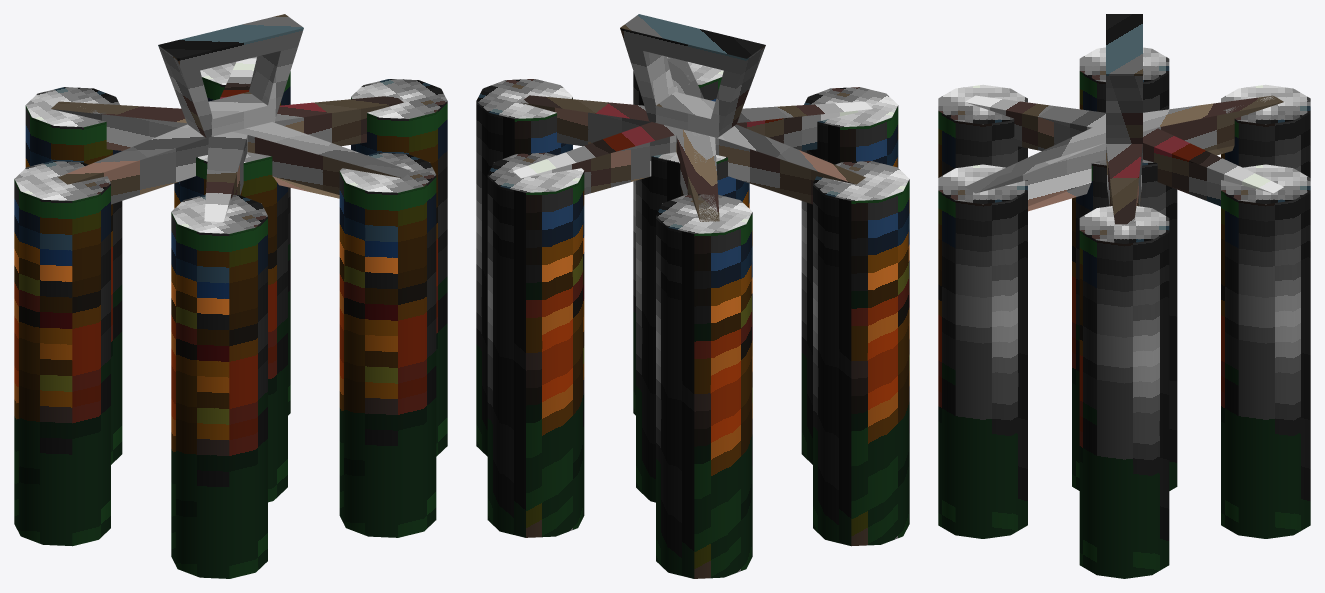
The model's file is gun3_ammo.FBX.
3 renders of one model, left to right at view 1: azimuth 30°, elevation 25°; view 2: azimuth 150°, elevation 25°; view 3: azimuth 270°, elevation 25°, orthographic. The views are drawn at different scales.
Parts seen in each view (by area): view 1: gun3_ammo; view 2: gun3_ammo; view 3: gun3_ammo.
Part boxes in pixels (x1,y1,x2,y2): gun3_ammo: (14, 14, 447, 578); gun3_ammo: (476, 14, 909, 578); gun3_ammo: (938, 14, 1310, 578).
Size of the model in its own units: 76.57 by 60.5 by 78.
